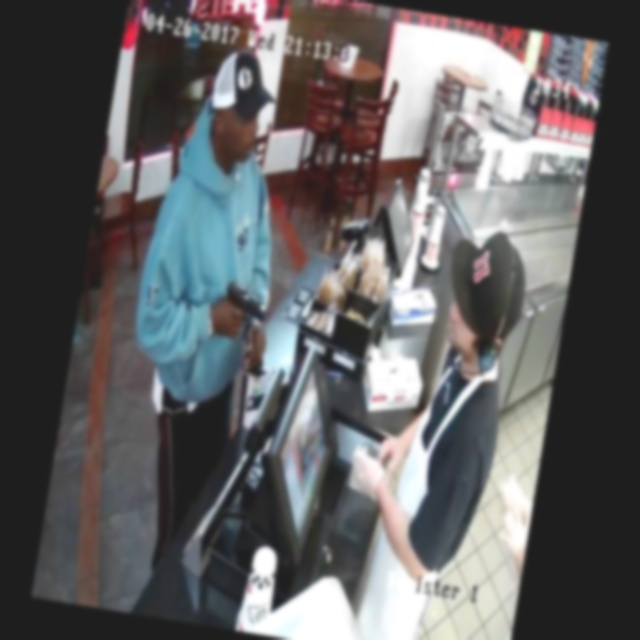gun: (203, 263, 284, 349)
